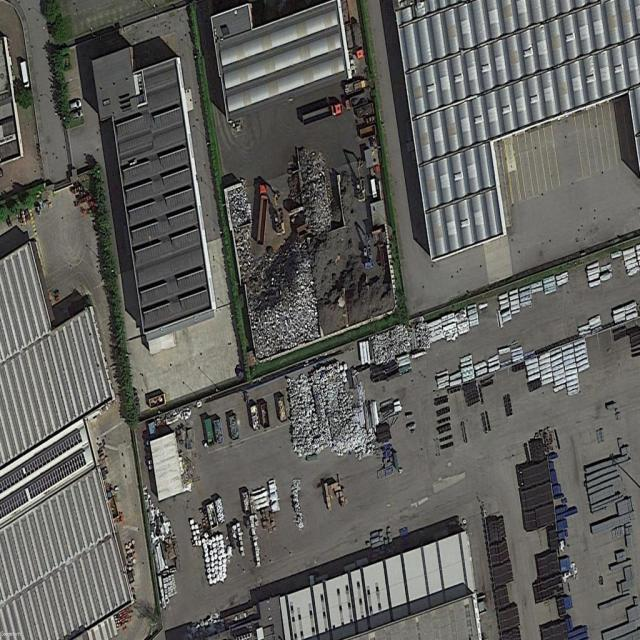dump_site: (239, 236, 322, 361), (285, 357, 377, 462), (298, 144, 333, 239), (370, 319, 432, 367), (228, 186, 255, 262), (289, 478, 306, 534), (206, 500, 219, 532), (213, 498, 225, 526), (250, 404, 261, 434), (277, 395, 288, 424), (229, 415, 240, 441), (213, 420, 224, 445)
